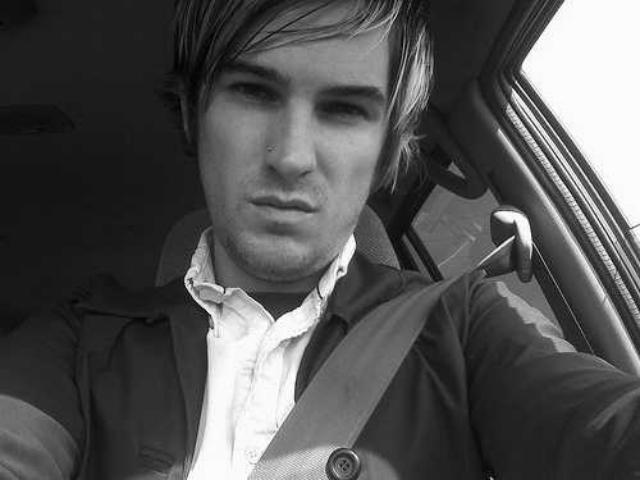SafeDriving: (308, 85, 382, 134), (216, 63, 284, 116)
Seatbelt: (240, 206, 540, 480)
